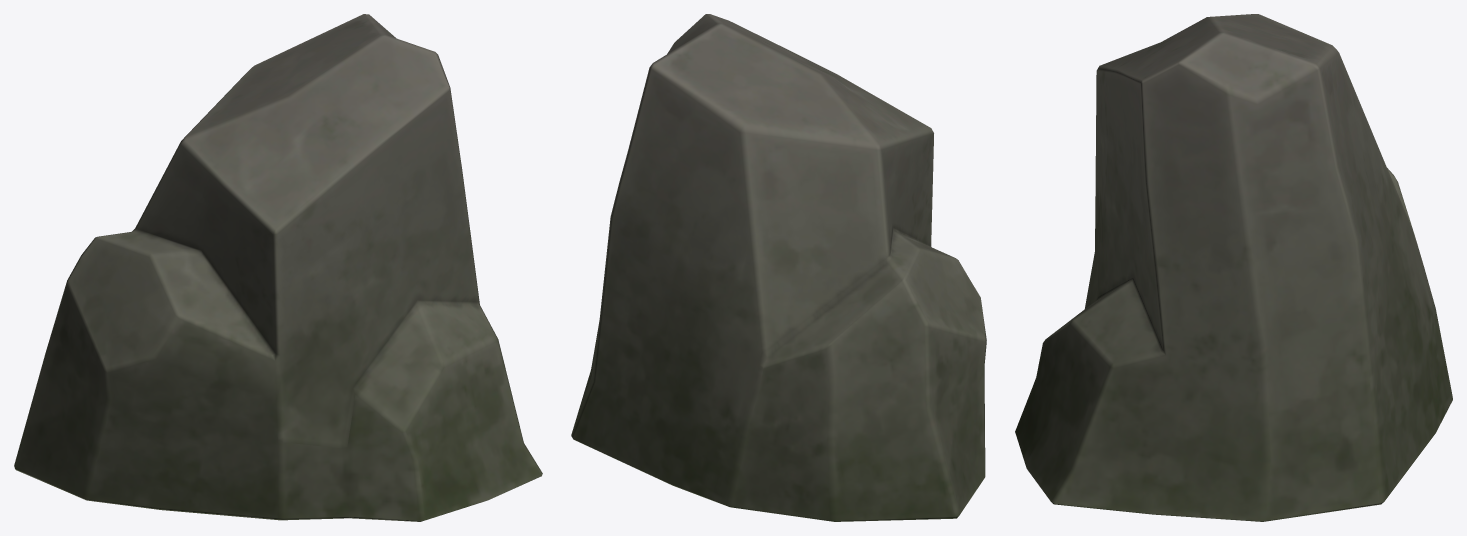
Rendered from AP2_Rock7.glb.
3 renders of one model, left to right at view 1: azimuth 30°, elevation 25°; view 2: azimuth 150°, elevation 25°; view 3: azimuth 270°, elevation 25°, orthographic. The views are drawn at different scales.
Parts seen in each view (by area): view 1: Rock7_LOD0; view 2: Rock7_LOD0; view 3: Rock7_LOD0.
Boxes of the visible parts, <box> form: Rock7_LOD0: <box>14,14,542,521</box>; Rock7_LOD0: <box>571,14,986,521</box>; Rock7_LOD0: <box>1015,14,1452,521</box>.
Size of the model in its own units: 3.56 by 3.21 by 2.96.
1 material, 1 textured.
